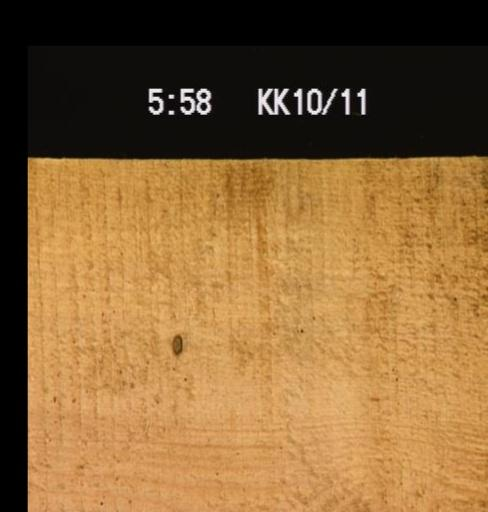dry_knot: (168, 331, 181, 355)
